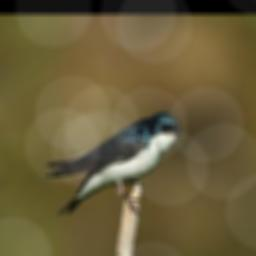Swallow: (43, 110, 183, 221)
